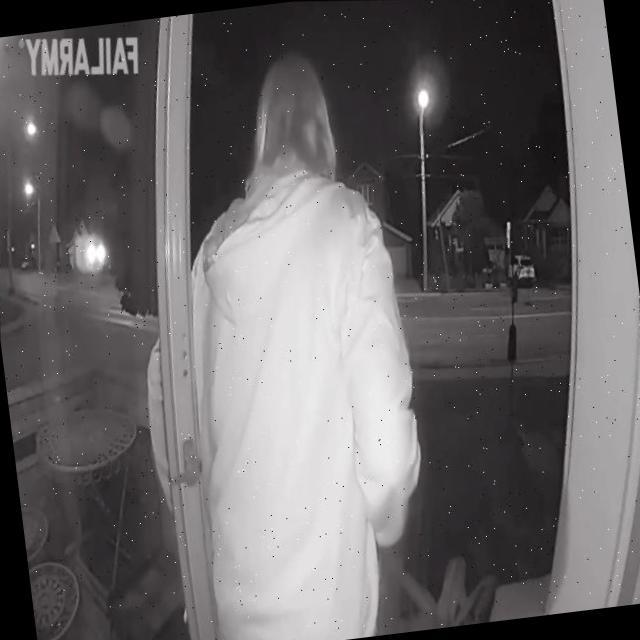person: (82, 19, 477, 640)
